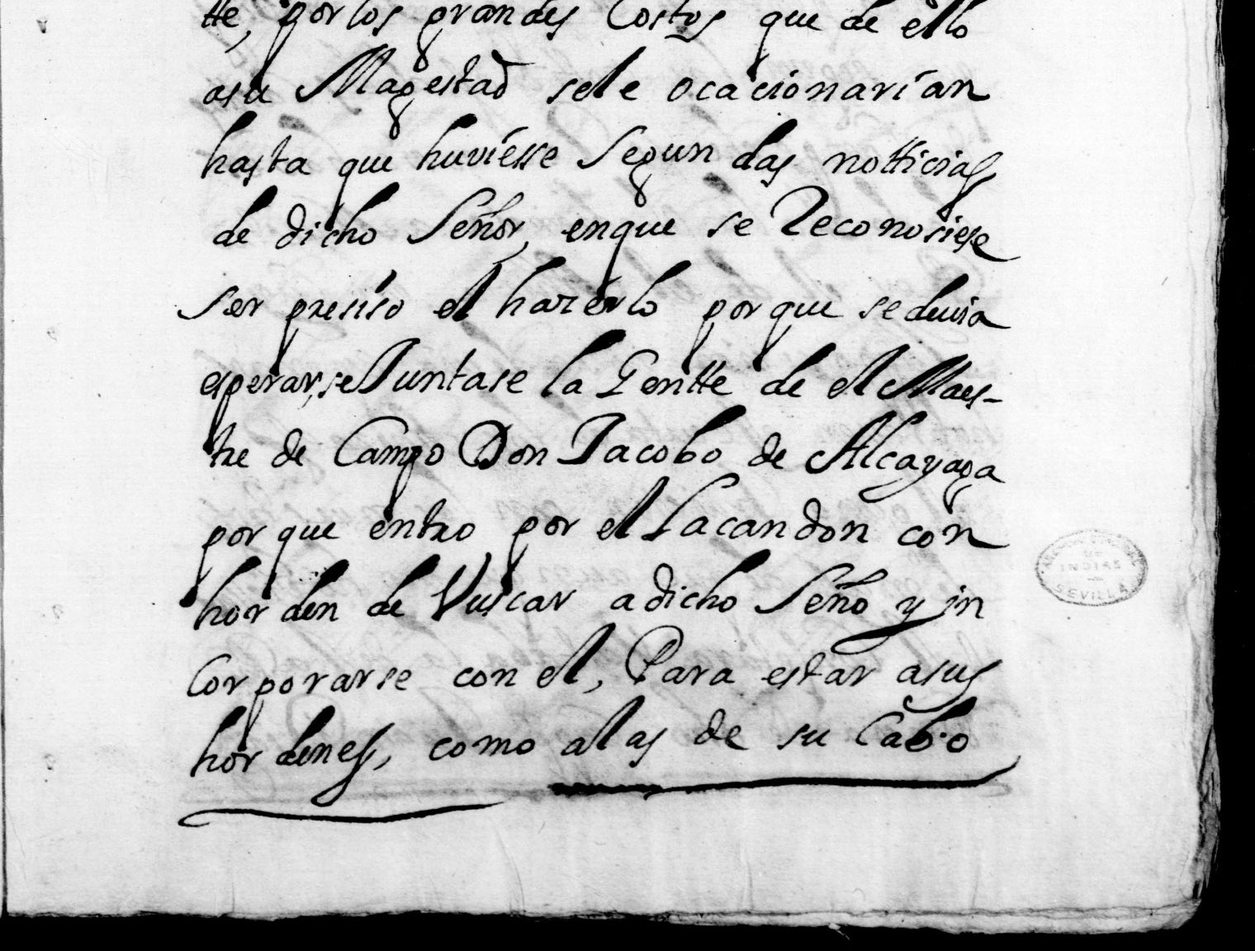lacandon: (641, 472, 869, 543)
